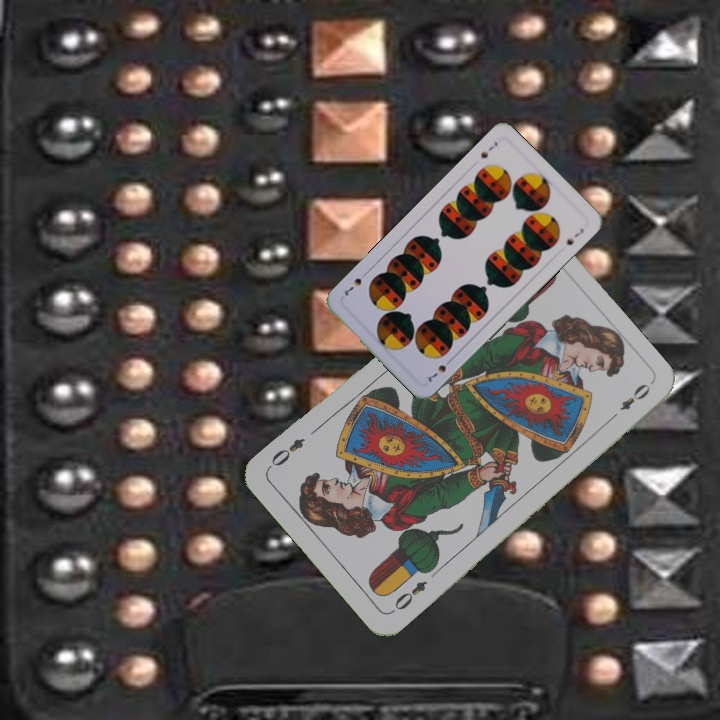EO: (387, 576, 430, 616)
S7: (422, 354, 455, 386), (476, 137, 500, 161)
